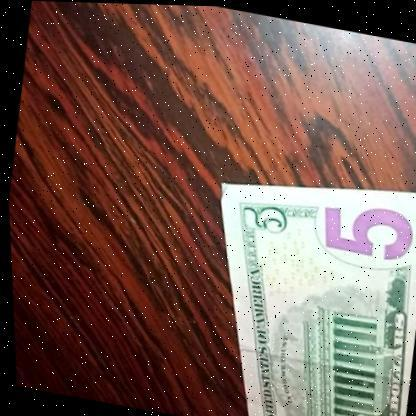dollar_back: (179, 152, 416, 416)
